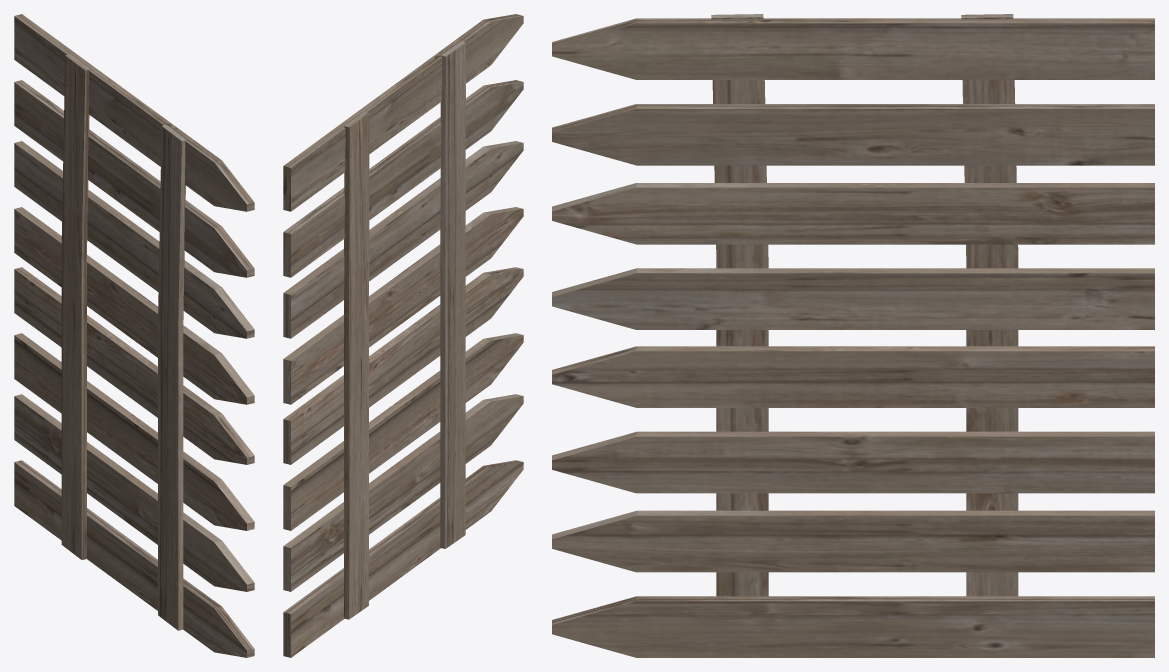
File: Tyler_Fence.obj
The picture shows the model from 3 angles, left to right: view 1: azimuth 30°, elevation 25°; view 2: azimuth 150°, elevation 25°; view 3: azimuth 270°, elevation 25°; orthographic projection. The views are drawn at different scales.
Parts seen in each view (by area): view 1: Plane; view 2: Plane; view 3: Plane.
Part boxes in pixels (x1,y1,x2,y2): Plane: (14, 14, 254, 657); Plane: (283, 14, 523, 657); Plane: (552, 14, 1154, 657).
Size of the model in its own units: 14.46 by 519 by 445.
